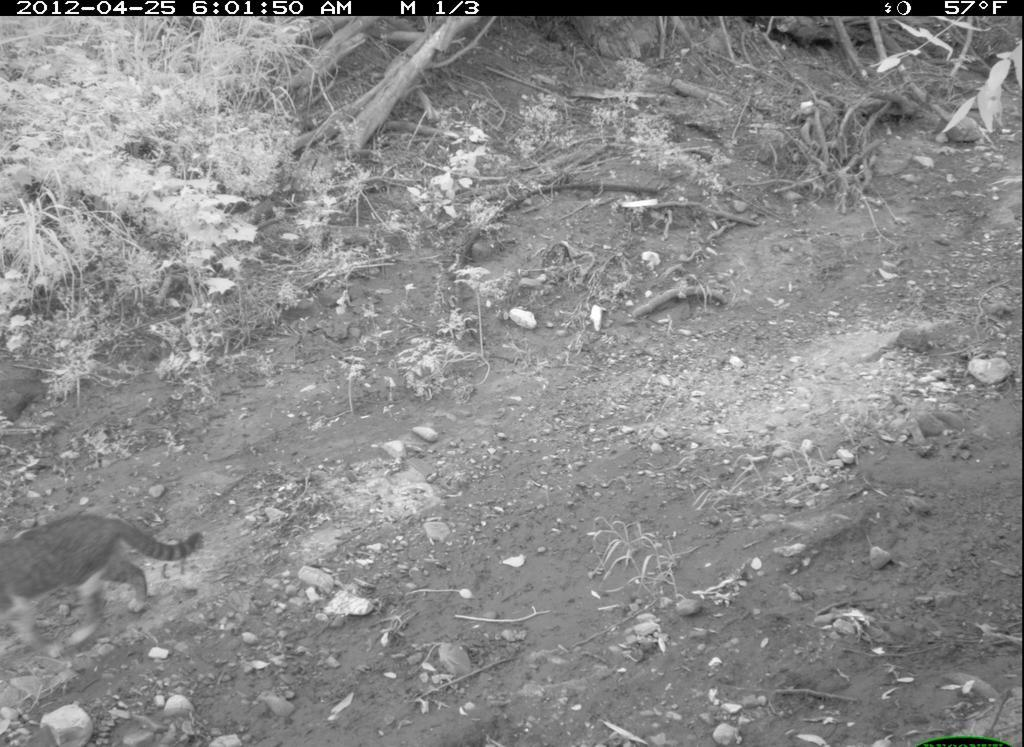cat: (3, 491, 213, 644)
